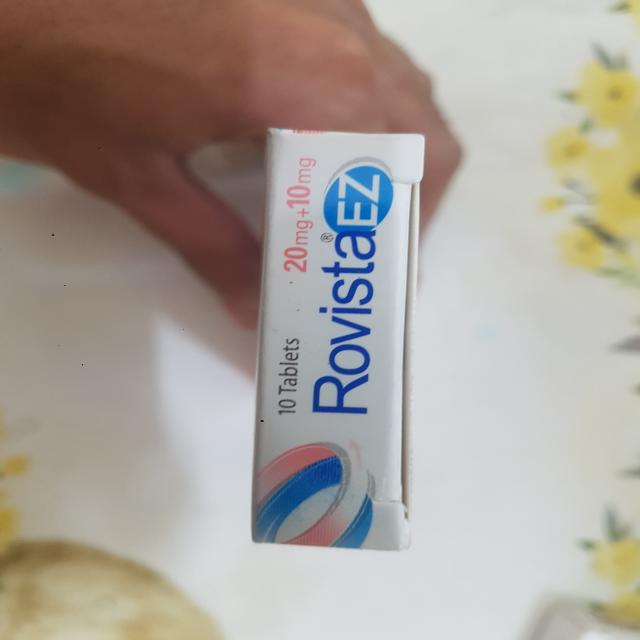electronic: (250, 128, 426, 550)
